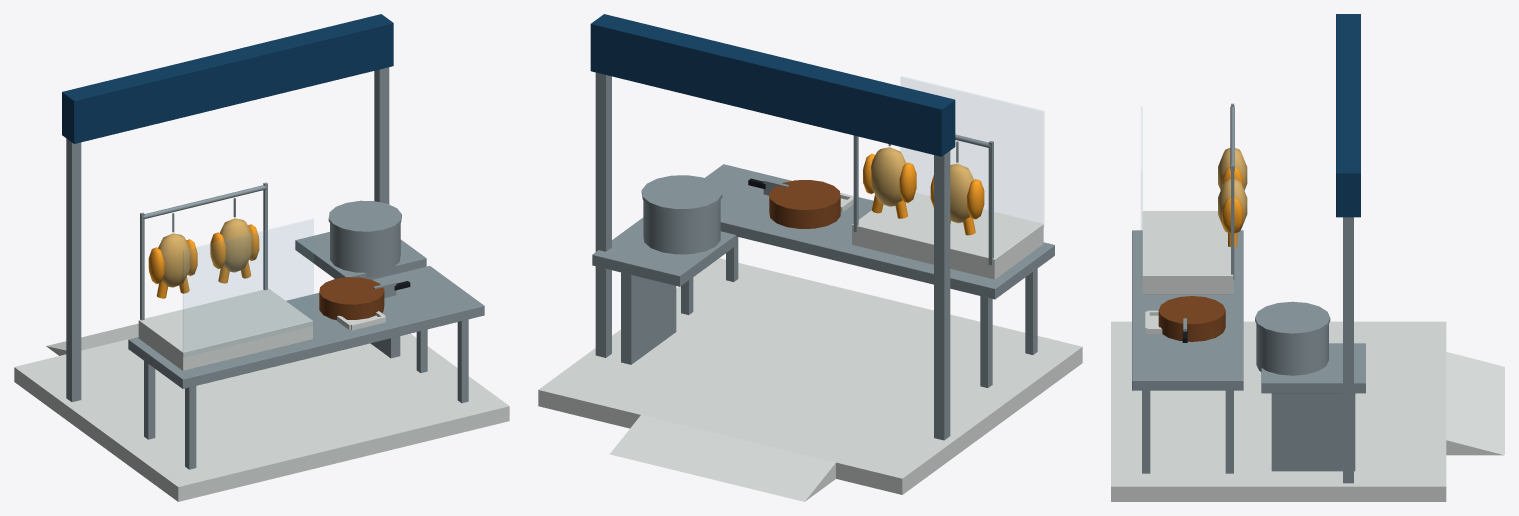
Rendered from chicken_rice_stall.glb.
The picture shows the model from 3 angles, left to right: view 1: azimuth 30°, elevation 25°; view 2: azimuth 150°, elevation 25°; view 3: azimuth 270°, elevation 25°; orthographic projection. The views are drawn at different scales.
Visible parts, largest first — view 1: concrete, metal, plate, glass, trim.002, trim.003, trim, trim.004; view 2: concrete, metal, plate, glass, trim.002, trim, trim.003, trim.004; view 3: concrete, metal, trim.002, plate, trim, trim.003, trim.004.
Part boxes in pixels (<box>): concrete: <box>14,292,509,501</box>; metal: <box>66,67,484,469</box>; plate: <box>62,14,393,143</box>; glass: <box>183,219,313,356</box>; trim.002: <box>138,288,385,370</box>; trim.003: <box>158,218,251,287</box>; trim: <box>319,277,384,320</box>; trim.004: <box>148,224,259,298</box>; concrete: <box>538,258,1082,501</box>; metal: <box>592,72,1054,440</box>; plate: <box>590,14,955,156</box>; glass: <box>901,76,1043,223</box>; trim.002: <box>840,192,1043,279</box>; trim: <box>769,180,840,228</box>; trim.003: <box>871,147,973,223</box>; trim.004: <box>863,153,984,235</box>; concrete: <box>1111,321,1504,501</box>; metal: <box>1132,103,1365,483</box>; trim.002: <box>1142,211,1233,334</box>; plate: <box>1336,14,1360,217</box>; trim: <box>1158,296,1225,341</box>; trim.003: <box>1218,148,1247,232</box>; trim.004: <box>1222,167,1243,246</box>.
Bounding box in the file's own units: 2.8 × 2.58 × 2.82.
